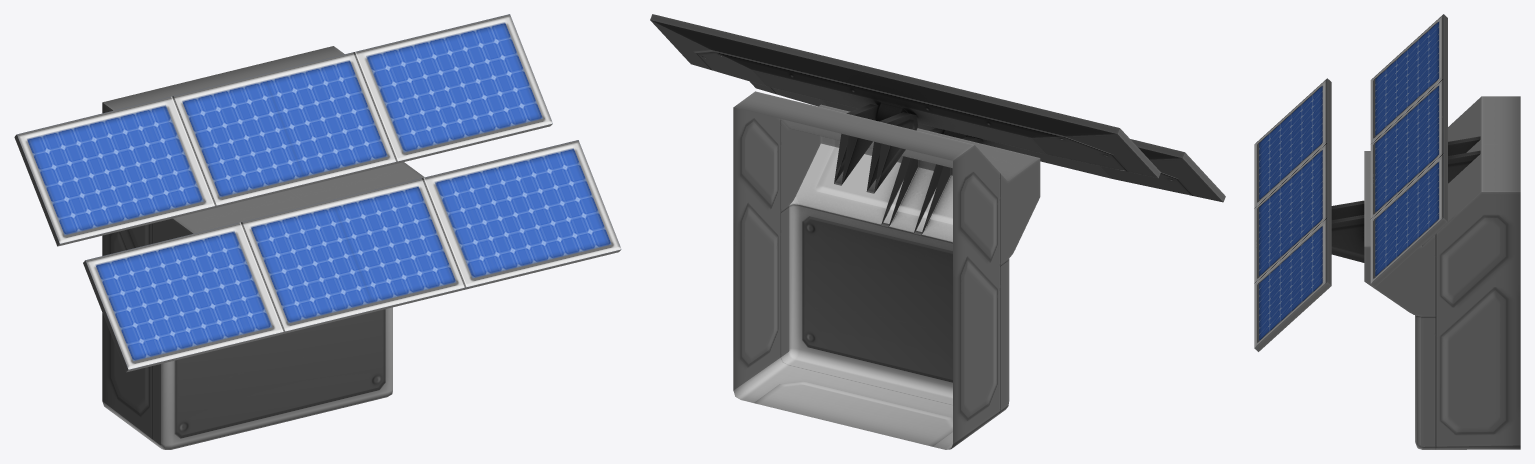
File: solar_array.obj
3 renders of one model, left to right at view 1: azimuth 30°, elevation 25°; view 2: azimuth 150°, elevation 25°; view 3: azimuth 270°, elevation 25°, orthographic. The views are drawn at different scales.
Parts seen in each view (by area): view 1: solar_array; view 2: solar_array; view 3: solar_array.
Boxes of the visible parts, bbox=[...] form: solar_array: bbox=[14, 14, 621, 449]; solar_array: bbox=[650, 14, 1225, 449]; solar_array: bbox=[1254, 14, 1520, 449].
Size of the model in its own units: 126 by 82.84 by 69.4.
